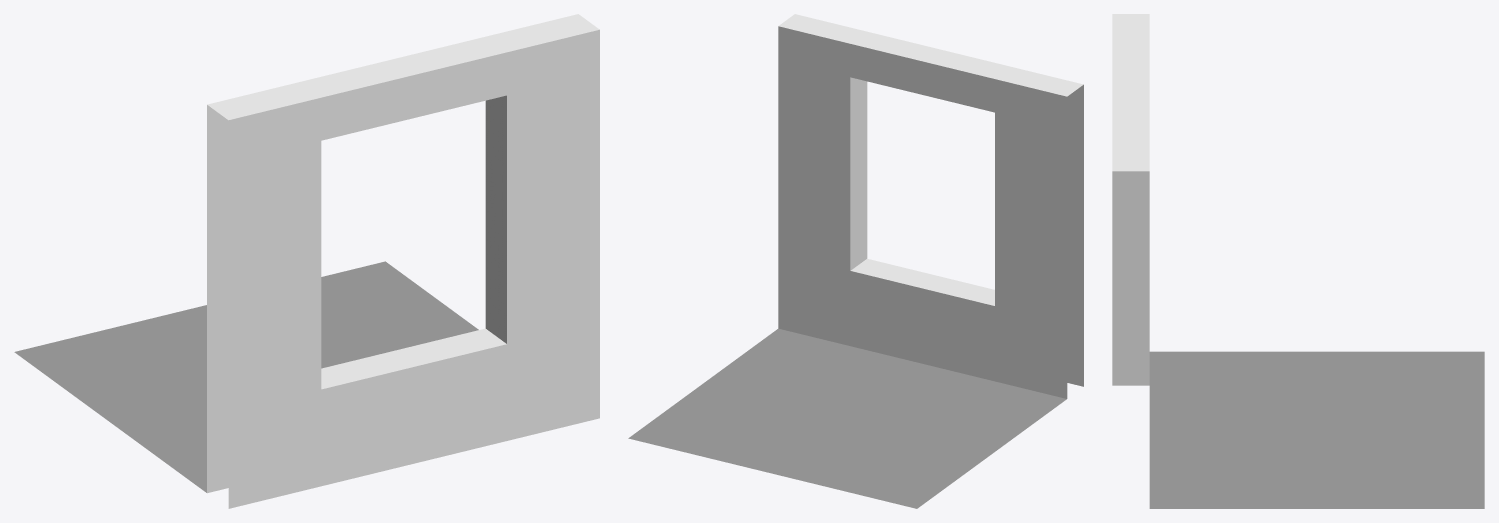
The model's file is E_Wall_Straight_Window.fbx.
3 views of the same model, side by side, from view 1: azimuth 30°, elevation 25°; view 2: azimuth 150°, elevation 25°; view 3: azimuth 270°, elevation 25° (orthographic). The views are drawn at different scales.
Parts seen in each view (by area): view 1: E_Wall_Straight_Window; view 2: E_Wall_Straight_Window; view 3: E_Wall_Straight_Window.
Part boxes in pixels (x1=…): E_Wall_Straight_Window: x1=14, y1=14, x2=599, y2=508; E_Wall_Straight_Window: x1=628, y1=14, x2=1083, y2=508; E_Wall_Straight_Window: x1=1112, y1=14, x2=1484, y2=508.
Size of the model in its own units: 200 by 200 by 200.
